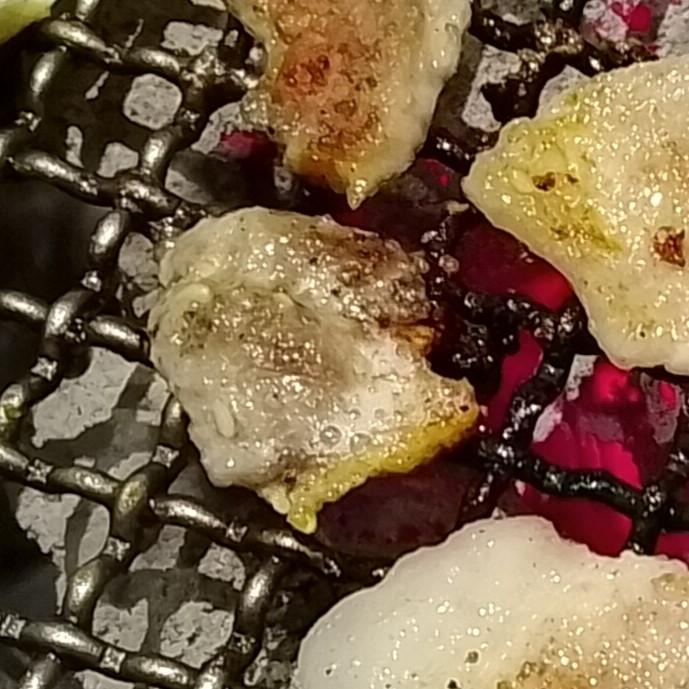Overcooked: (151, 207, 481, 532), (259, 0, 469, 210)
Undercooked: (462, 53, 688, 378), (289, 516, 688, 688)
